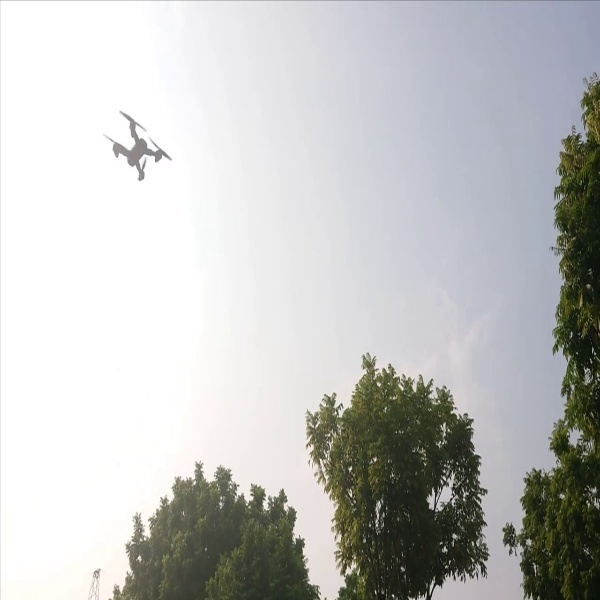drone: (95, 102, 177, 186)
